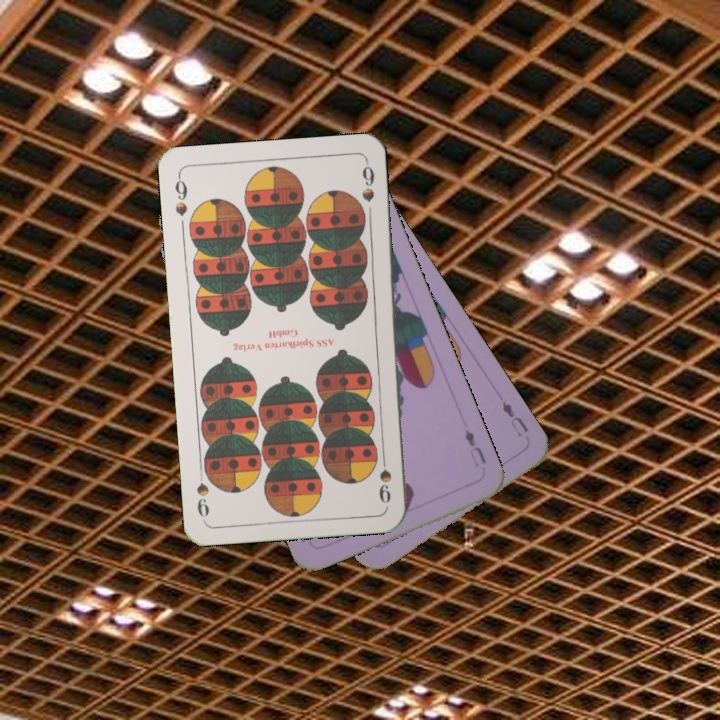EU: (498, 397, 531, 440), (460, 425, 489, 470)
S9: (374, 447, 394, 507), (171, 171, 190, 218)
